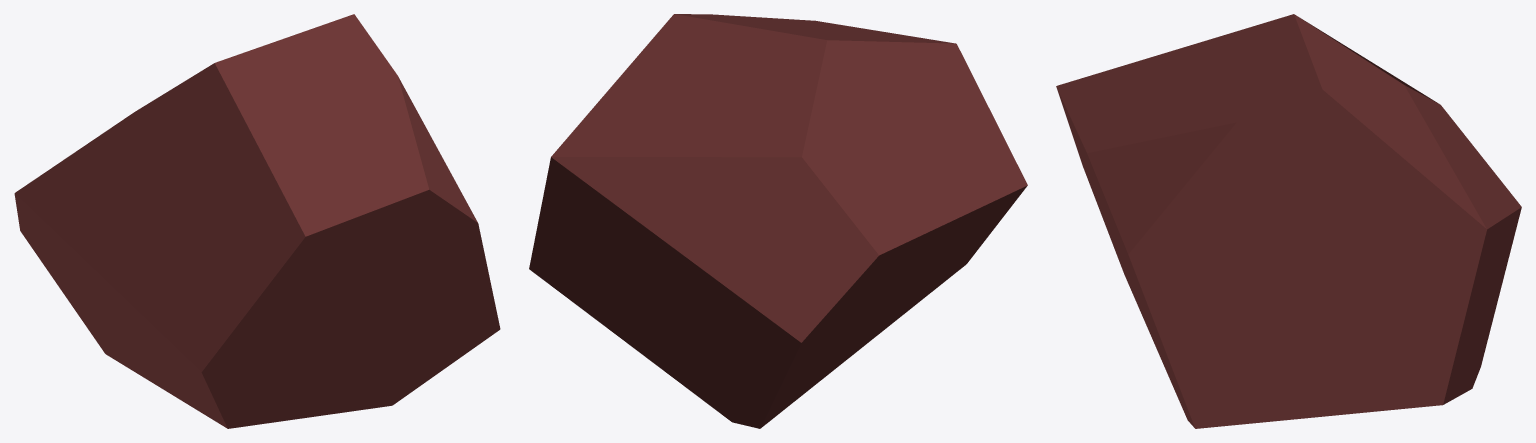
The model's file is rock_0.fbx.
The picture shows the model from 3 angles, left to right: view 1: azimuth 30°, elevation 25°; view 2: azimuth 150°, elevation 25°; view 3: azimuth 270°, elevation 25°; orthographic projection. The views are drawn at different scales.
Visible parts, largest first — view 1: Plane; view 2: Plane; view 3: Plane.
Part boxes in pixels (x1,y1,x2,y2): Plane: (14, 14, 500, 428); Plane: (529, 14, 1027, 428); Plane: (1056, 14, 1521, 428).
Size of the model in its own units: 173 by 156 by 179.
